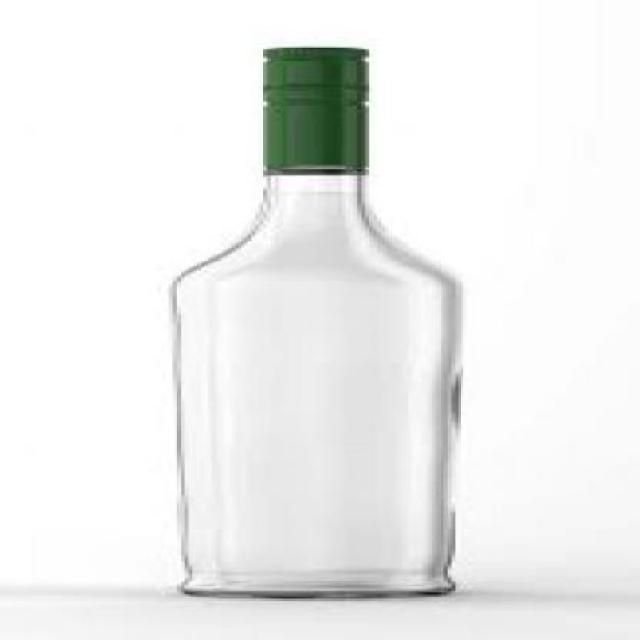kaca: (162, 169, 460, 597)
